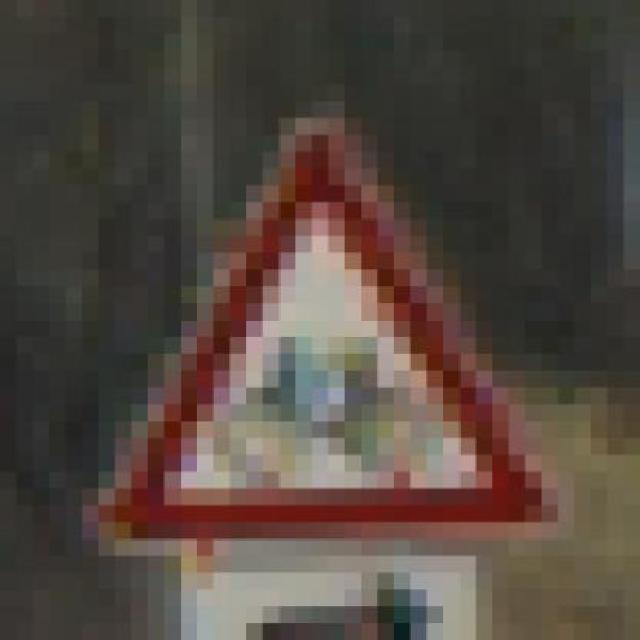CYCLE ROUTE AHEAD WARNING: (81, 84, 558, 573)
